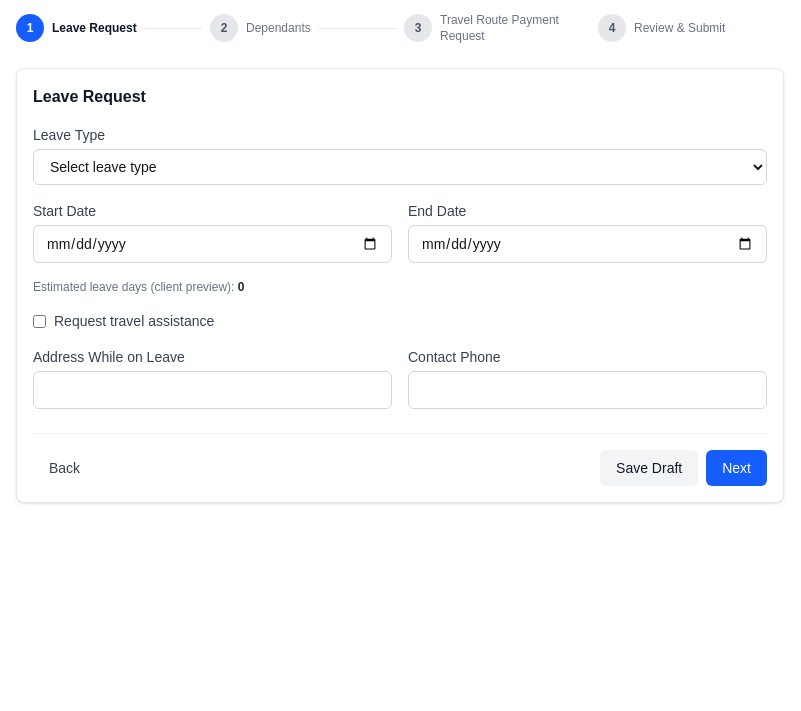
Test: LeaveApplicationForm › shows TAXI/MIZIGO as a fixed, non-editable amount set by the system administrator
The image size is (801, 711).
Expected: the heading "Leave Request" is shown, [33, 88, 146, 105]
Select "Annual Leave" in the dropdown labelled "Leave Type". click: (400, 167)
box: [33, 149, 767, 185]
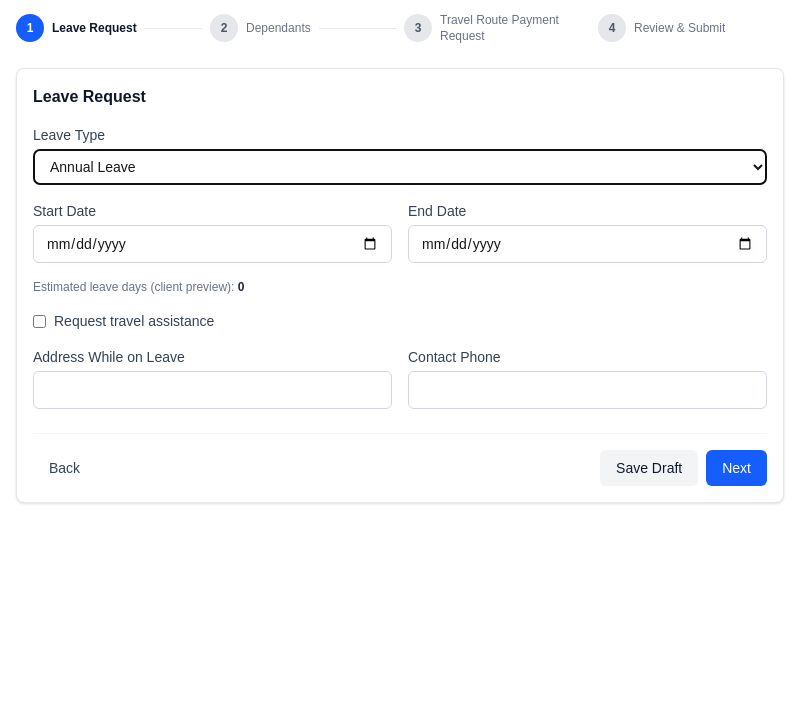
Type "2026-02-01" into the date field labelled "Start Date". click: (212, 244)
box: [33, 225, 392, 263]
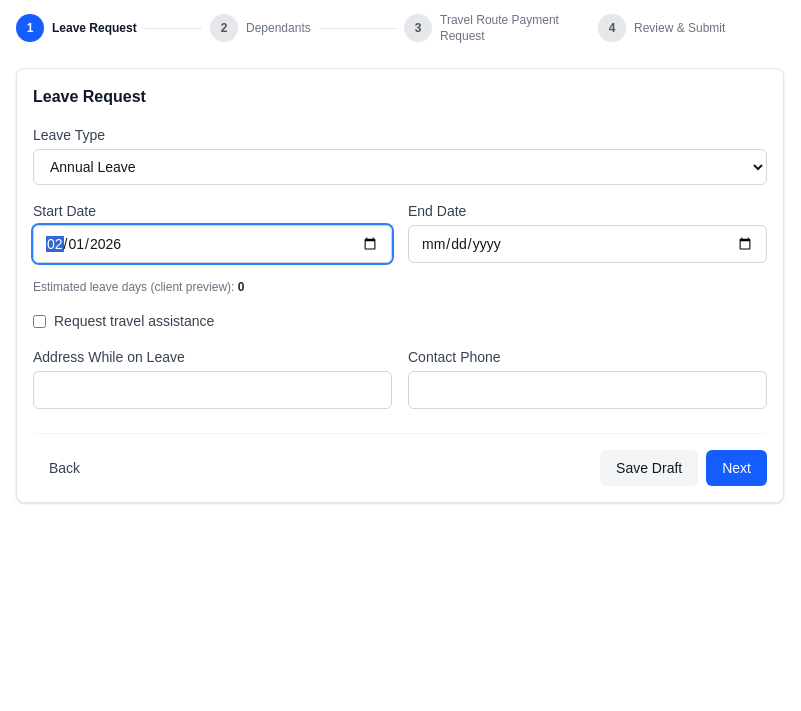
Type "2026-02-05" into the date field labelled "End Date". click: (588, 244)
box: [408, 225, 767, 263]
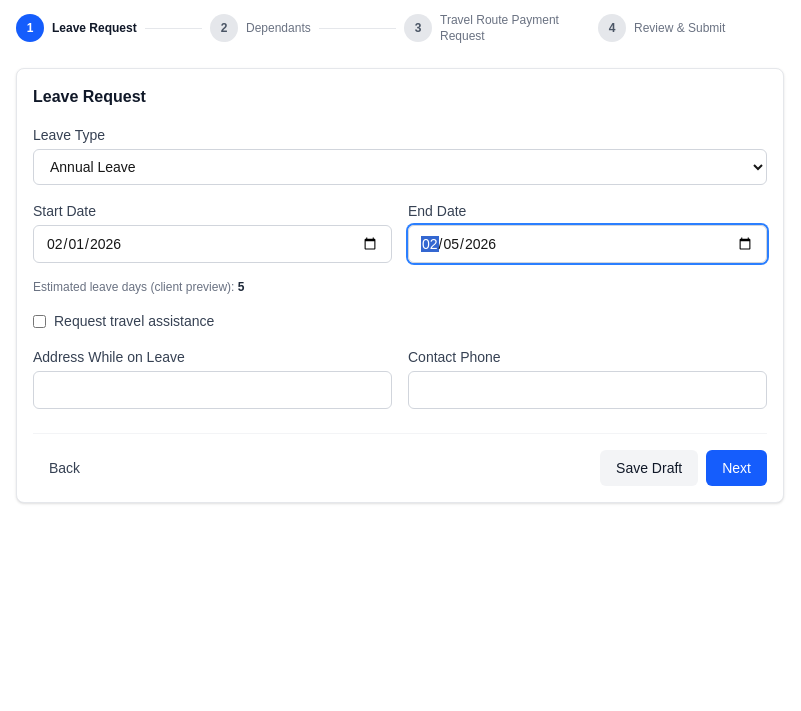
Click the checkbox labelled "Request travel assistance". click: click(40, 321)
box: [33, 314, 46, 328]
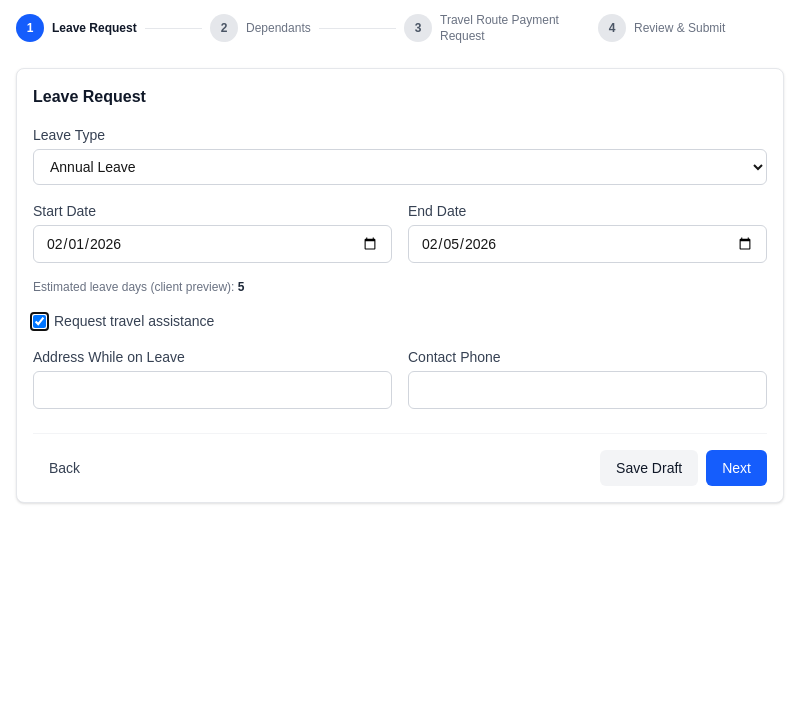
Click the button "Next". click: click(737, 468)
box: [706, 450, 767, 486]
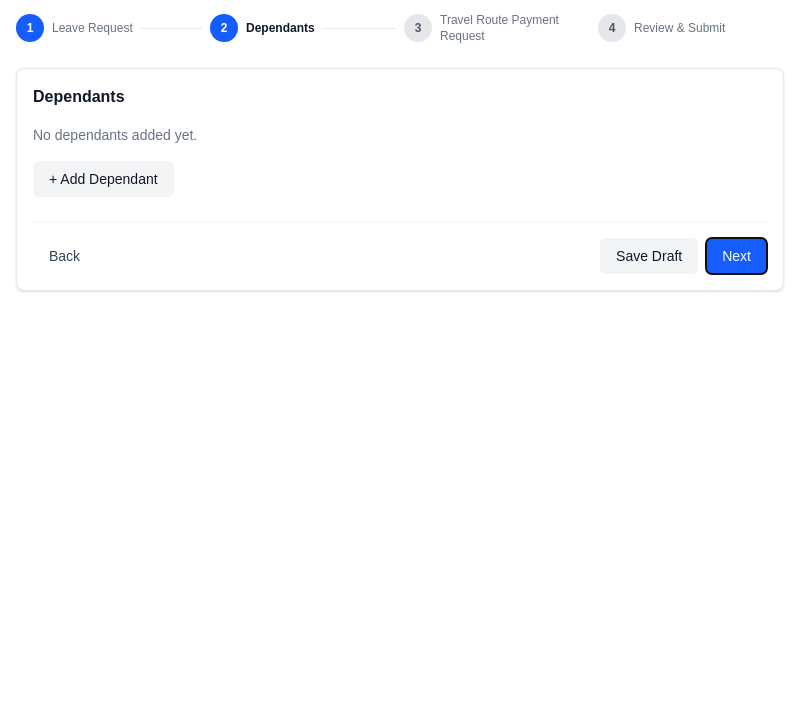
Result: the heading "Dependants" is shown at [33, 88, 125, 105]
Click the button "Next". click: click(737, 256)
box: [706, 238, 767, 274]
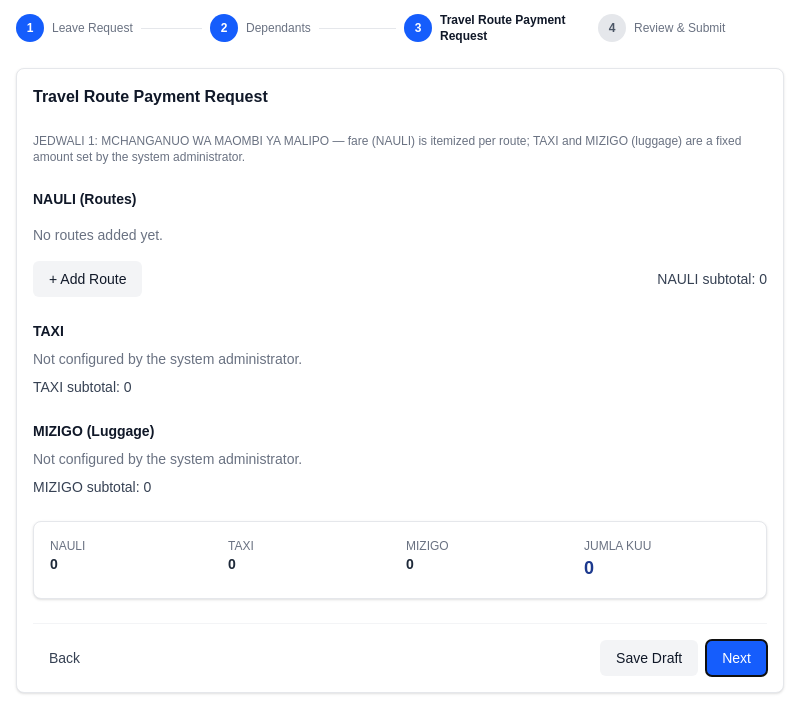
Result: the heading "Travel Route Payment Request" is shown at [33, 88, 268, 105]
Result: the text "Not configured by the system administrator." is shown 2 times at [33, 351, 302, 367]; [33, 451, 302, 467]
